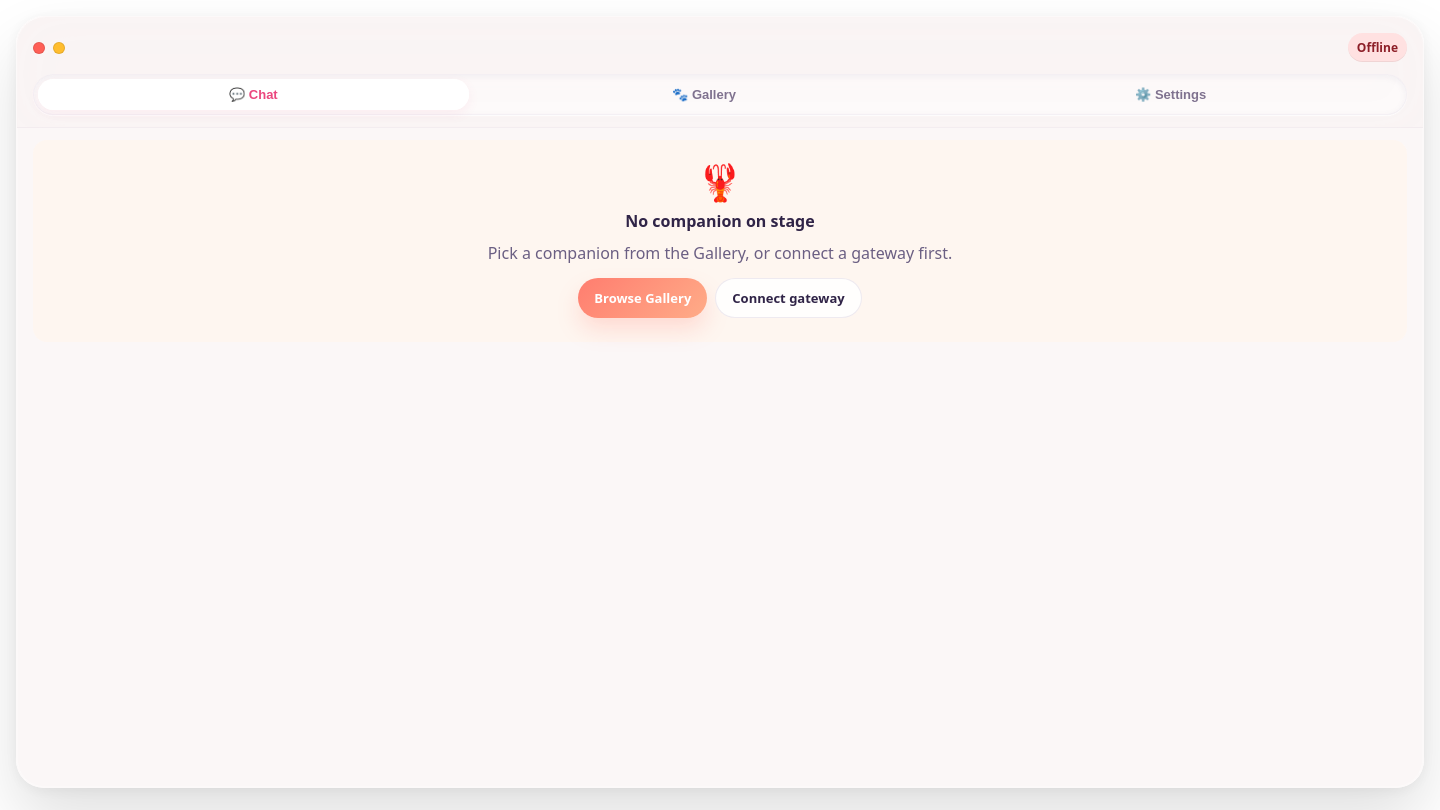
Test: hydrateAndReconnectActiveProfile › shows a direct gateway connection action when no companion is connected
Expected: the text "No companion on stage" is shown, [625, 210, 815, 232]
Click the button "Connect gateway": (788, 298) [715, 278, 862, 318]
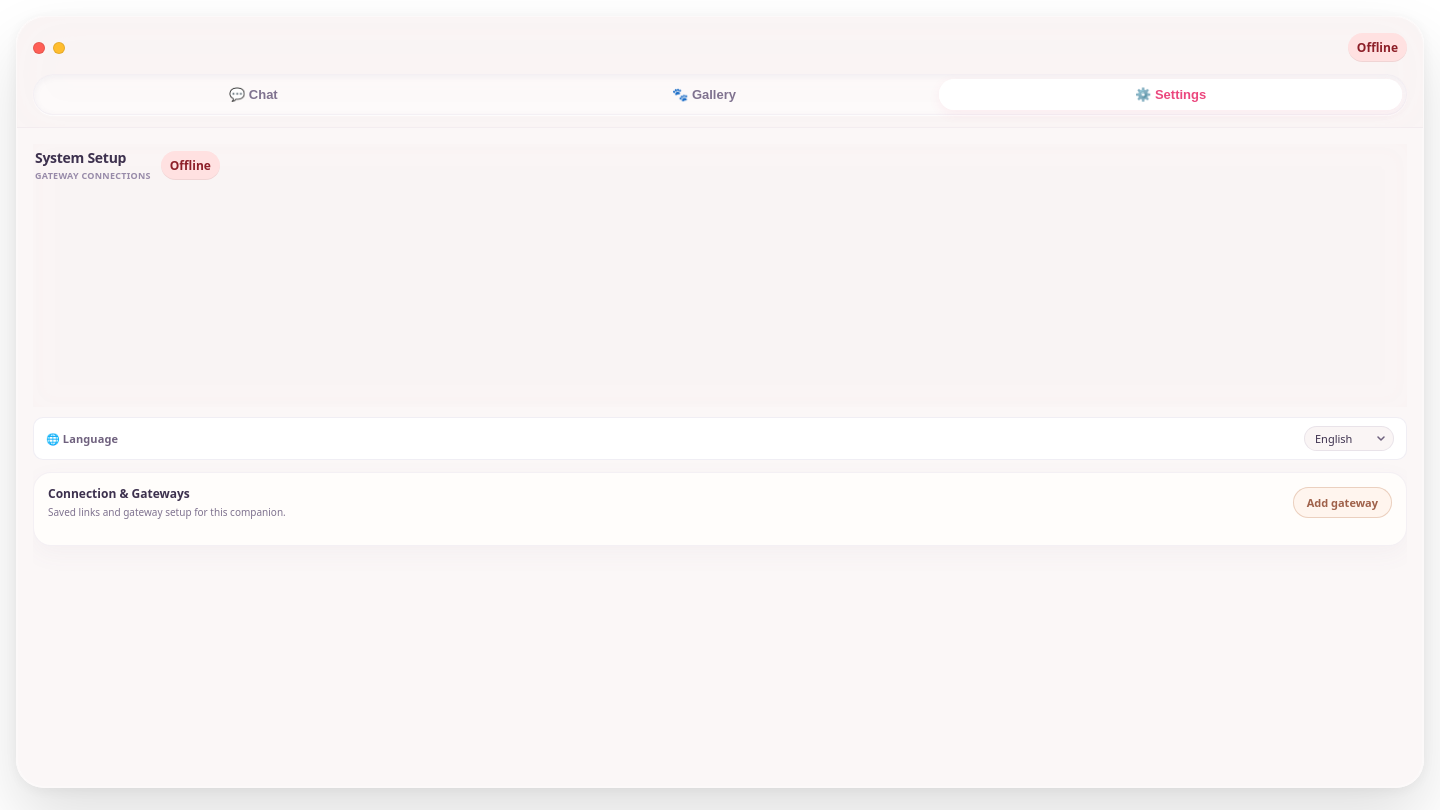
Expected: the heading "System Setup" is shown, [35, 148, 126, 167]
Expected: the button "Add gateway" is shown, [1293, 487, 1392, 518]
